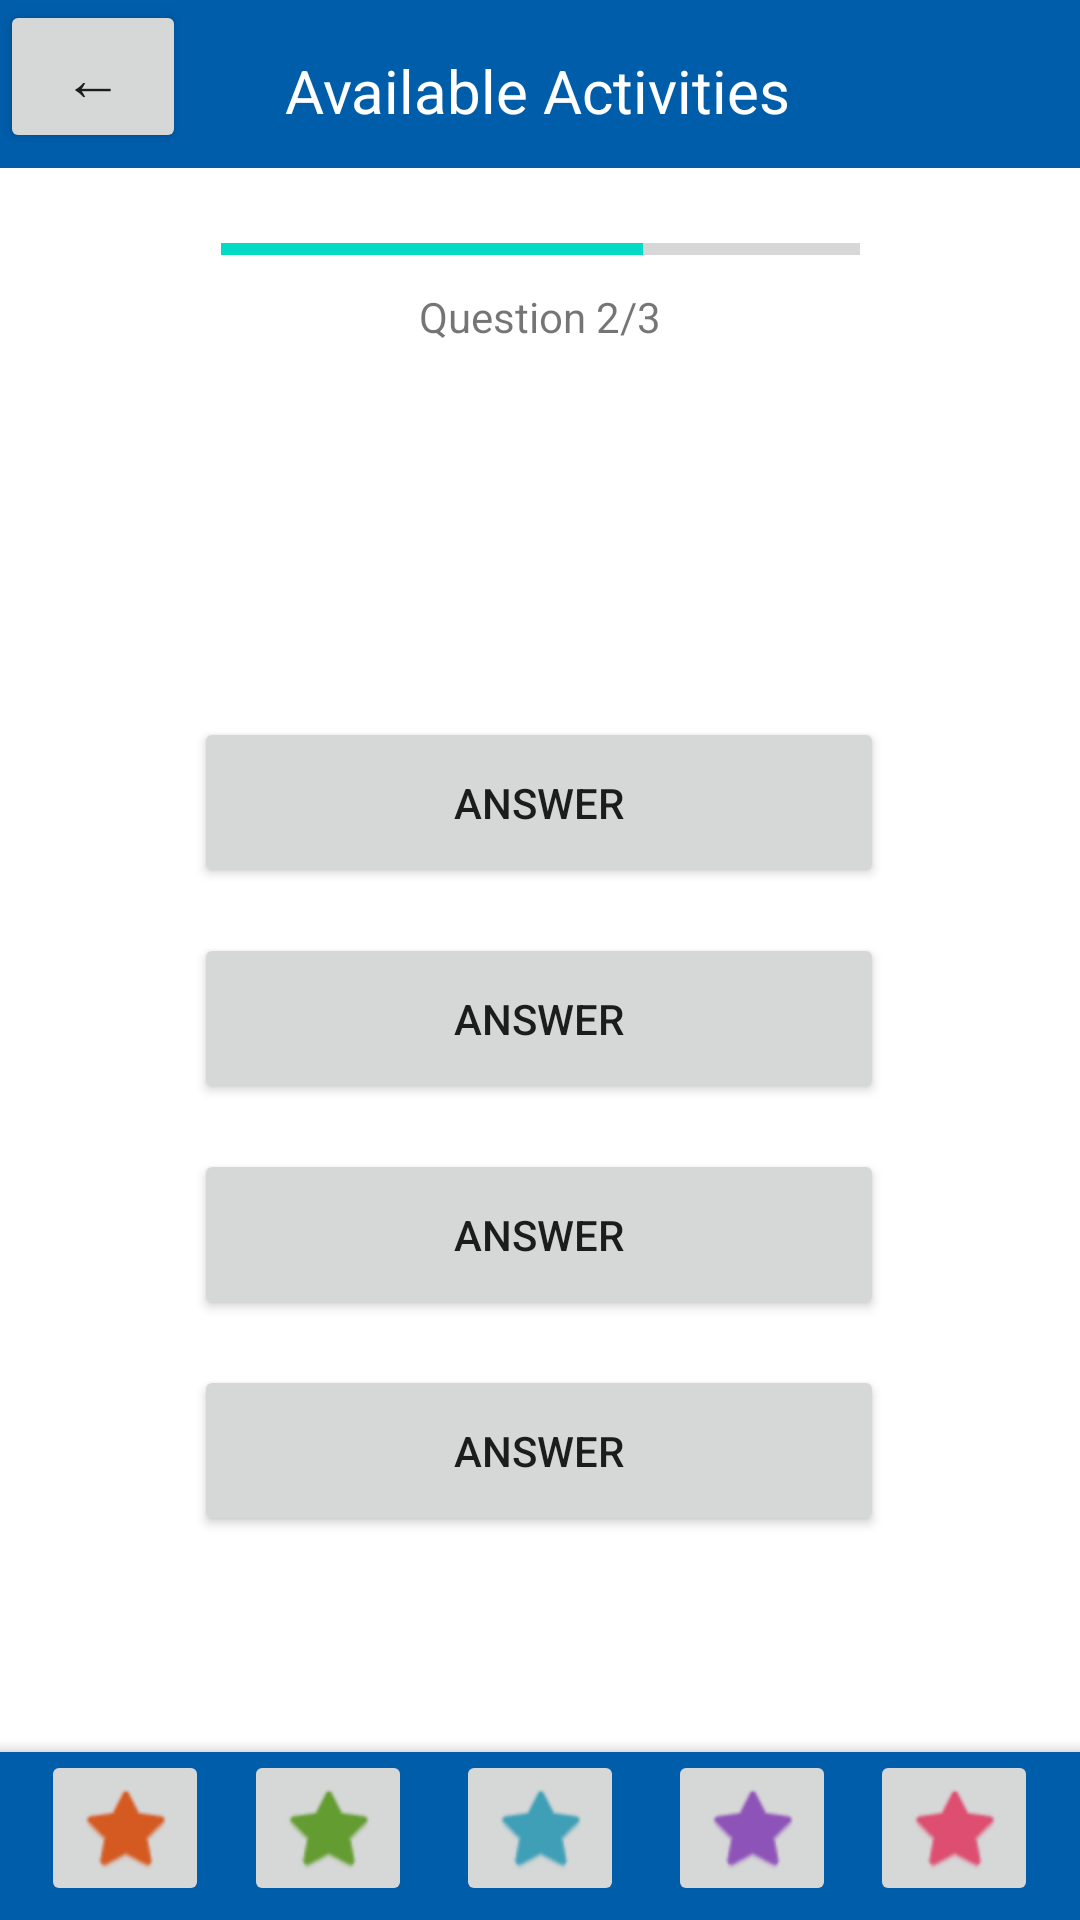

Named icons in this screenshot (1080px×1920px) and their centers, point (x, y):
star on: point (125, 1828), point (328, 1828), point (540, 1828), point (752, 1828), point (954, 1828)
